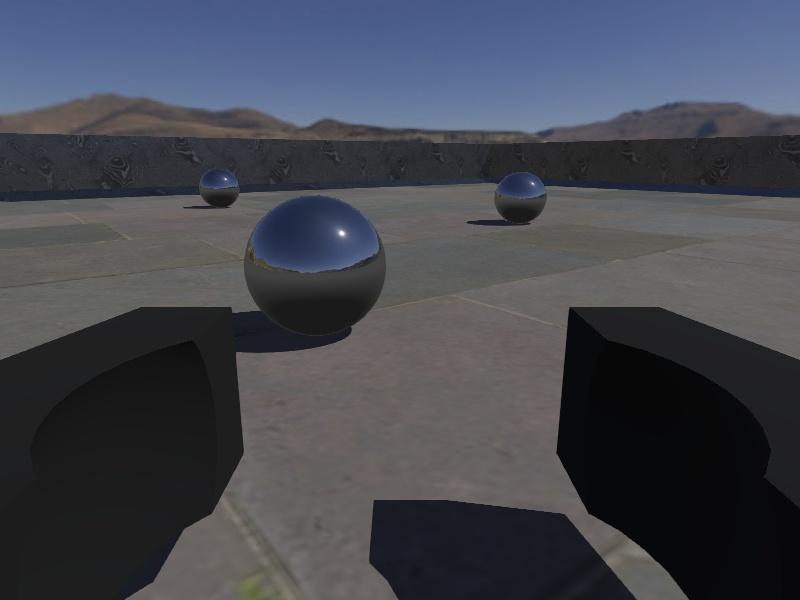steel ball: (243, 194, 388, 338), (493, 171, 548, 225), (198, 168, 239, 208)
